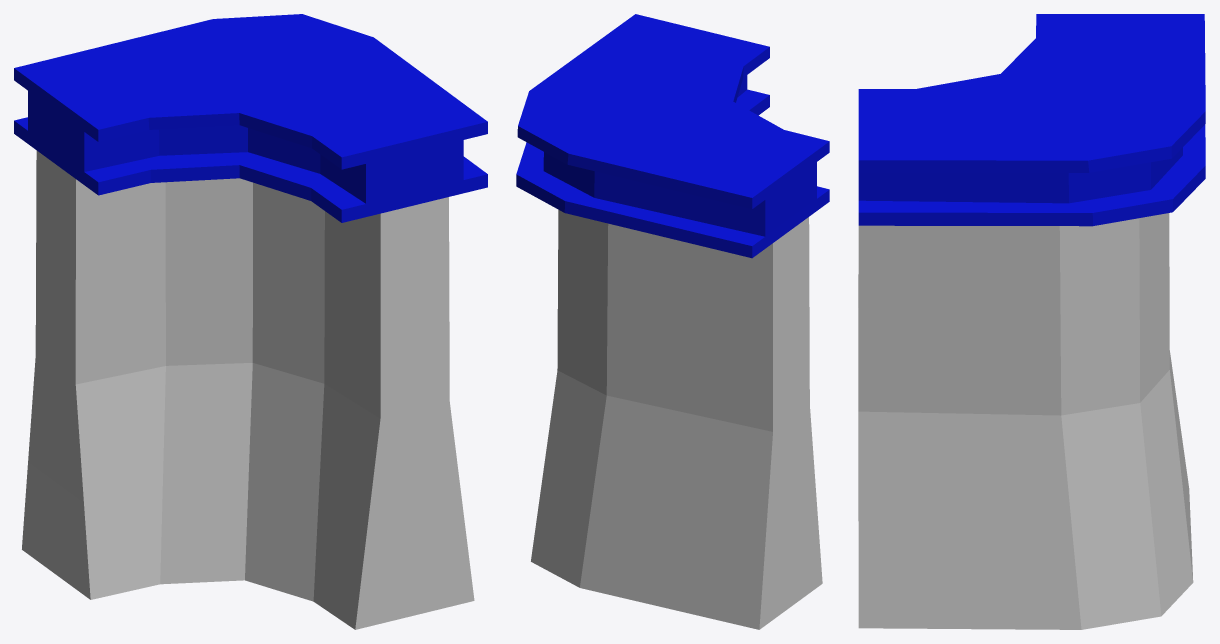
Rendered from Wall2x2Corner_LP.fbx.
3 renders of one model, left to right at view 1: azimuth 30°, elevation 25°; view 2: azimuth 150°, elevation 25°; view 3: azimuth 270°, elevation 25°, orthographic. The views are drawn at different scales.
Parts seen in each view (by area): view 1: Wall_2x2_Corner; view 2: Wall_2x2_Corner; view 3: Wall_2x2_Corner.
Part boxes in pixels (x1,y1,x2,y2): Wall_2x2_Corner: [14, 14, 487, 629]; Wall_2x2_Corner: [516, 14, 829, 629]; Wall_2x2_Corner: [858, 14, 1205, 629].
Size of the model in its own units: 133 by 200 by 133.
